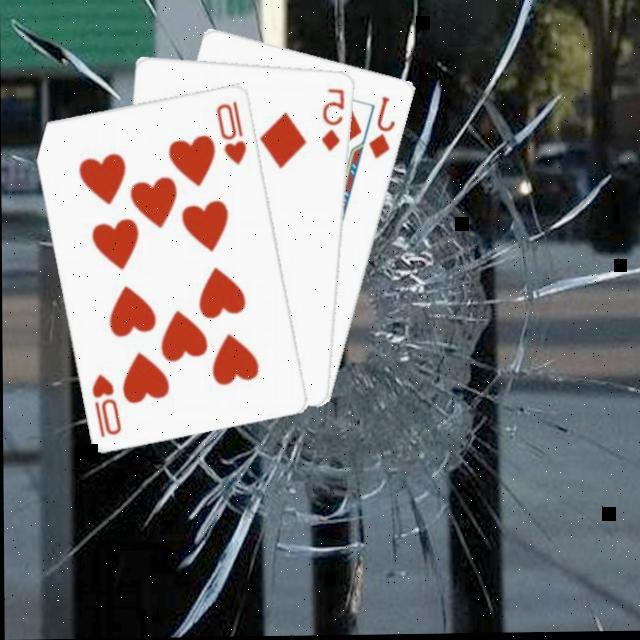10H: (216, 97, 252, 167), (90, 369, 126, 439)
5D: (320, 84, 351, 154)
JD: (367, 92, 401, 162)
